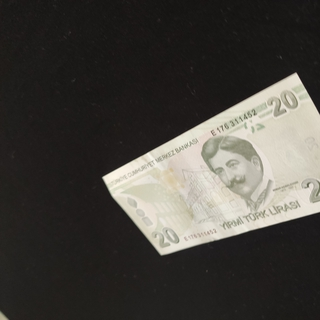20TLBack: (101, 72, 320, 256)
